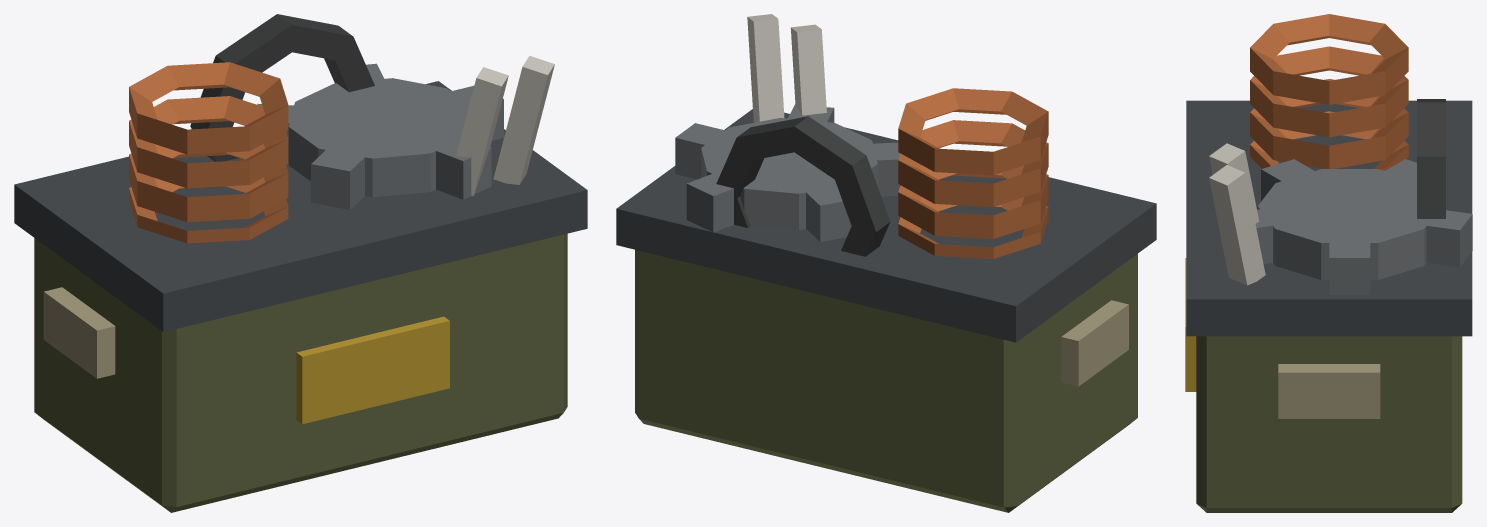
The model's file is item_spare_parts.glb.
3 renders of one model, left to right at view 1: azimuth 30°, elevation 25°; view 2: azimuth 150°, elevation 25°; view 3: azimuth 270°, elevation 25°, orthographic. The views are drawn at different scales.
Visible parts, largest first — view 1: spare_parts; view 2: spare_parts; view 3: spare_parts.
Boxes of the visible parts, x1=… form: spare_parts: x1=14, y1=14, x2=587, y2=512; spare_parts: x1=616, y1=14, x2=1156, y2=512; spare_parts: x1=1185, y1=14, x2=1472, y2=512.
Bounding box in the file's own units: 0.5 × 0.3641 × 0.2813.
